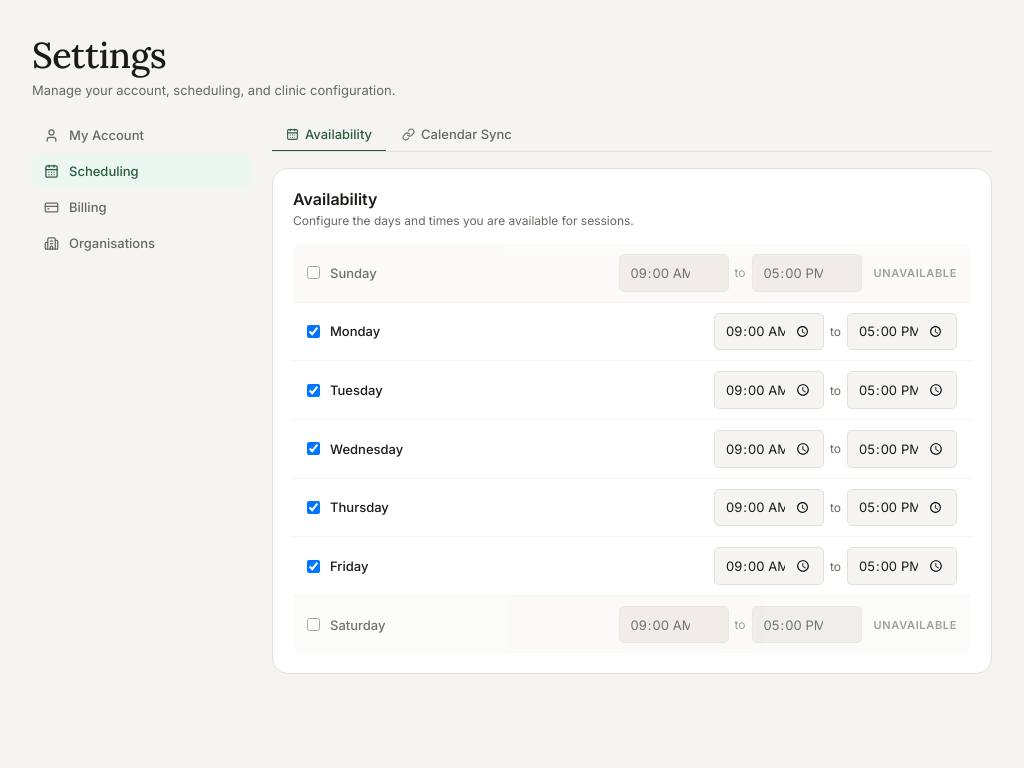
Test: <Settings> — Availability › toggling availability persists; time fields disable when off
What coordinates should you click on to do the following:
click the checkbox named "Monday available"
I would click on:
 (314, 332)
Its box is [307,325,320,338].
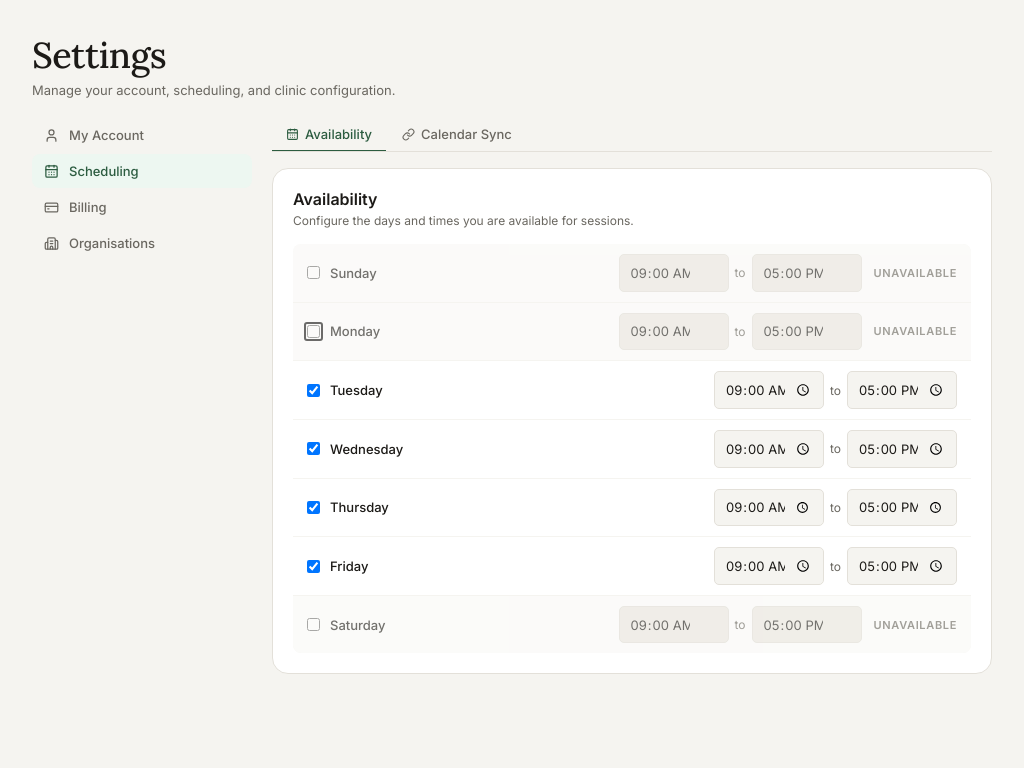
Expected: the checkbox named "Monday available" is not checked, [307,325,320,338]
Expected: the time field named "Monday start time" is disabled, [618,313,728,350]
